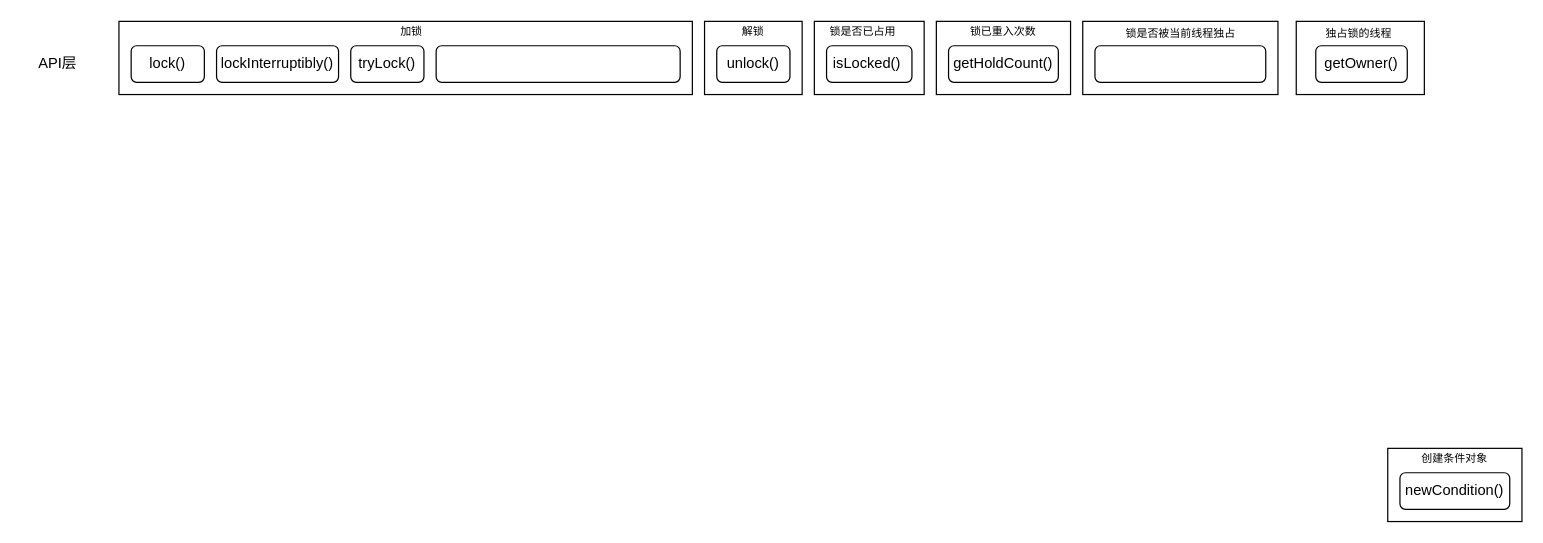
This 1543x543 diagram has some shape labels left out. Here are the shapes that lost their labels. From the top down, the centre of each, then its label:
At point 557,63: "tryLock(long timeout, TimeUnit unit)".
At point 1180,63: "isHeldByCurrentThread()".
